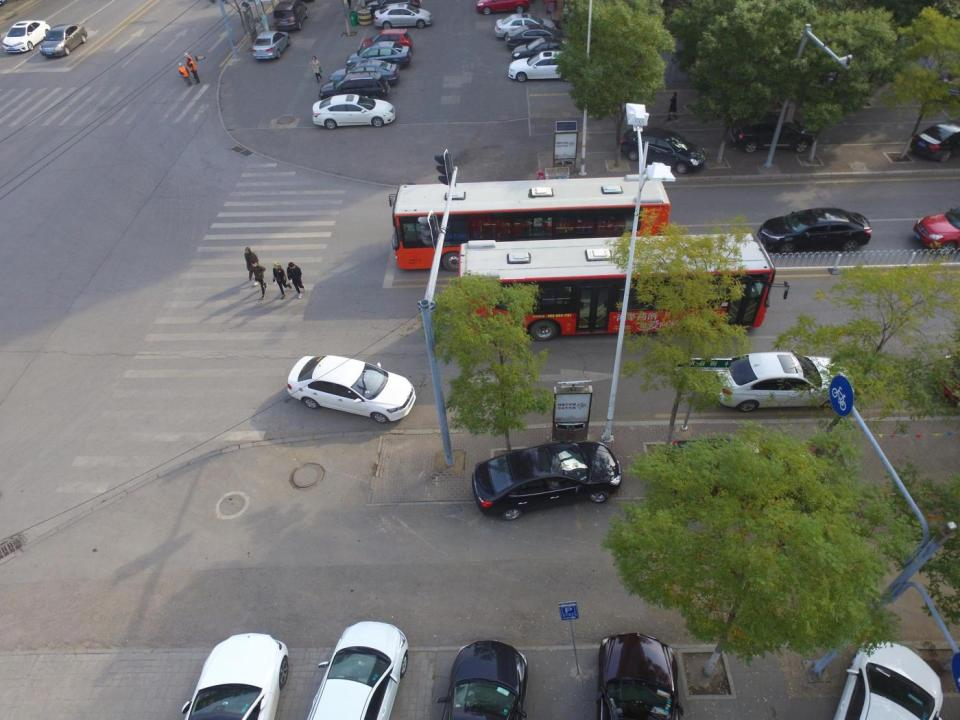bus: (452, 234, 775, 339), (394, 176, 669, 277)
car: (470, 442, 618, 521), (302, 620, 405, 720), (184, 631, 293, 720), (831, 637, 945, 720), (285, 354, 416, 422), (711, 351, 844, 407), (596, 632, 680, 720), (435, 641, 526, 720), (755, 206, 871, 255), (621, 127, 704, 175), (311, 90, 397, 130), (733, 114, 812, 154), (910, 119, 960, 168), (914, 209, 960, 256), (509, 52, 574, 84), (317, 74, 391, 102), (39, 24, 89, 60), (329, 62, 399, 86), (2, 20, 49, 55), (372, 4, 432, 31), (347, 43, 411, 67), (495, 14, 555, 39), (362, 28, 411, 57), (516, 38, 572, 63), (507, 26, 562, 49), (252, 31, 289, 60)
van: (270, 0, 309, 32)
